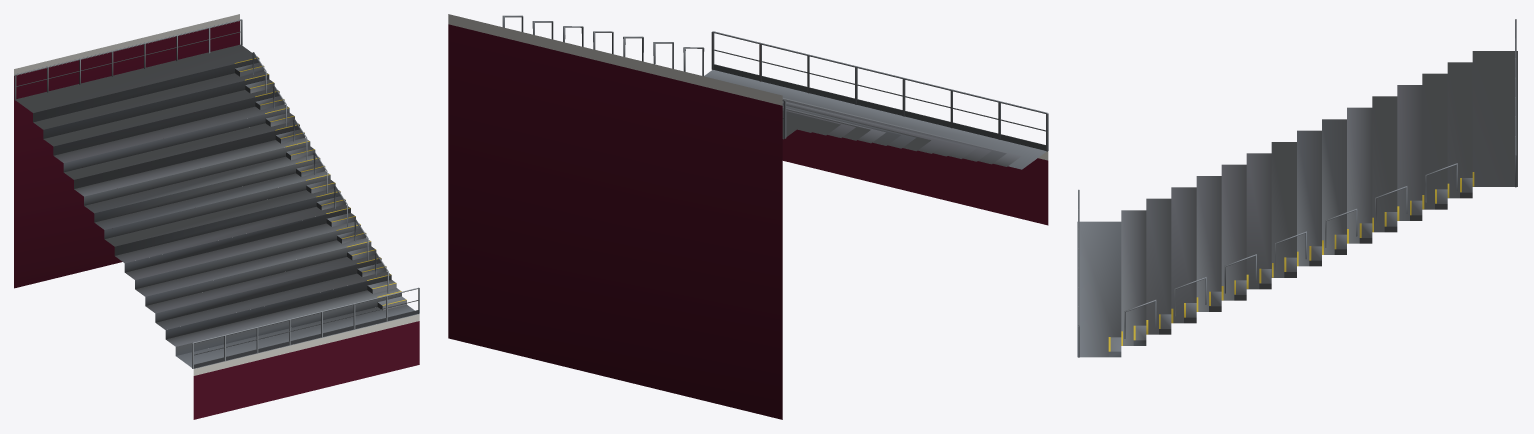
The model's file is stand_T16_kit_0.glb.
3 renders of one model, left to right at view 1: azimuth 30°, elevation 25°; view 2: azimuth 150°, elevation 25°; view 3: azimuth 270°, elevation 25°, orthographic. The views are drawn at different scales.
Parts seen in each view (by area): view 1: kit_0; view 2: kit_0; view 3: kit_0.
Boxes of the visible parts, bbox=[...] form: kit_0: bbox=[14, 14, 419, 419]; kit_0: bbox=[448, 14, 1048, 419]; kit_0: bbox=[1077, 19, 1517, 357].
Bounding box in the file's own units: 10.3 × 9.5 × 14.1.
